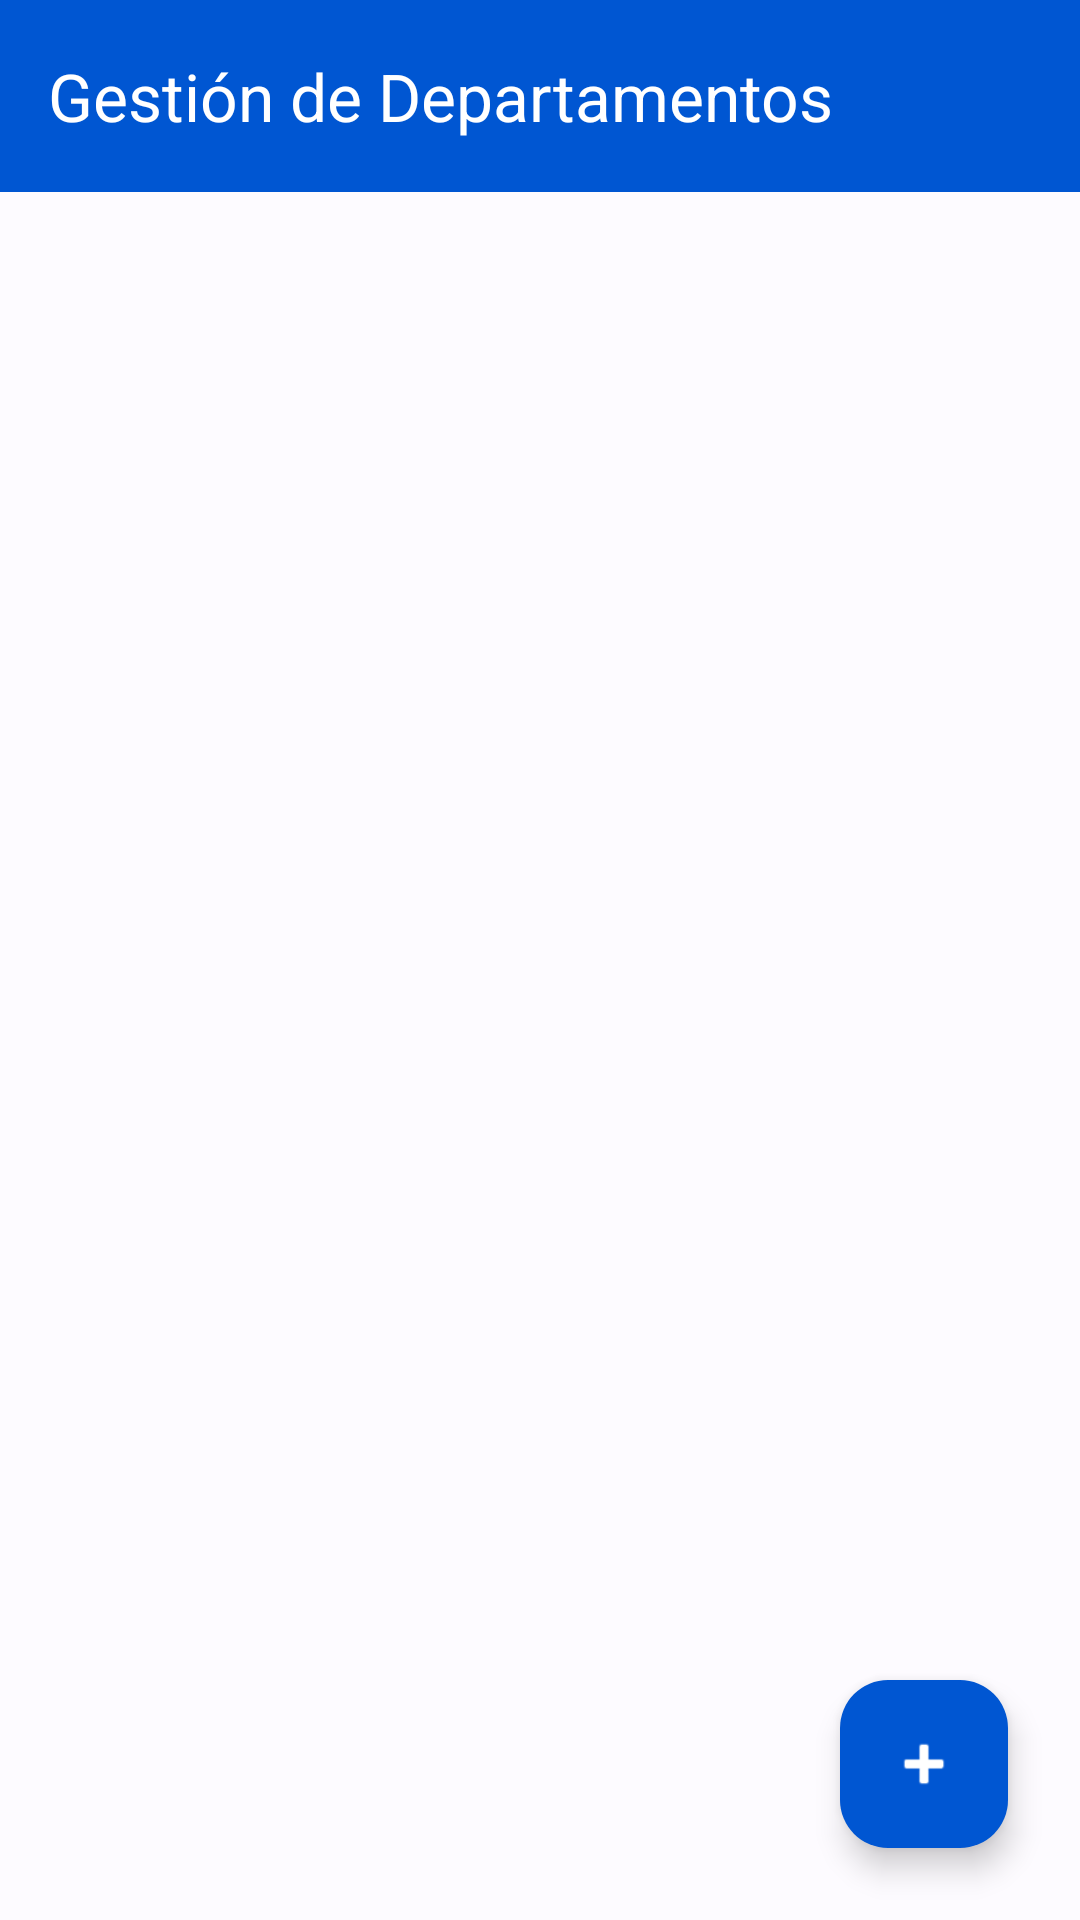

Screen size 1080px x 1920px. Icon name, then its center in pixels as [x,y]:
Agregar Departamento: [924,1764]
